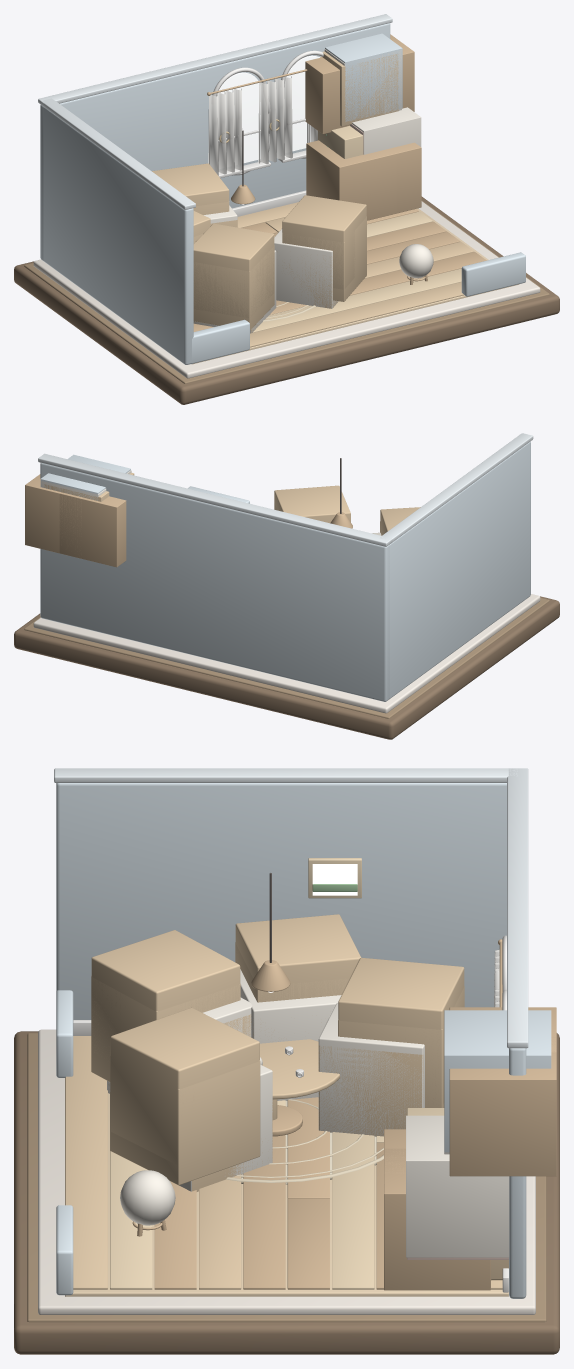
The model's file is dining-nook.glb.
The picture shows the model from 3 angles, top to bottom: view 1: azimuth 30°, elevation 25°; view 2: azimuth 150°, elevation 25°; view 3: azimuth 270°, elevation 25°; orthographic projection. The views are drawn at different scales.
Parts seen in each view (by area): view 1: WallWest, WallNorth, Plinth, Skirt, Chair2RailTop, SideDoor0, ShelfBookB, Chair2RailMid, Chair3RailTop, CapNorth, Chair3Pad, PlinthHi (+30 smaller); view 2: WallNorth, WallWest, Plinth, Skirt, ShelfBracket0, CapNorth, PlinthHi, ShelfBracket1, CapWest, Chair3RailTop, ShelfBookB, Chair2RailTop (+1 smaller); view 3: WallWest, Plinth, Skirt, Chair3RailTop, ShelfBracket1, SideBookB, Chair3RailMid, Plank0_0, PlinthHi, Chair2RailTop, Chair0Pad, Chair1RailTop (+30 smaller).
Part boxes in pixels (x1,y1,x2,y2): WallWest: (43,107,193,364); WallNorth: (40,23,390,260); Plinth: (14,196,559,404); Skirt: (33,201,540,378); Chair2RailTop: (193,223,274,317); SideDoor0: (306,140,396,220); ShelfBookB: (325,33,402,121); Chair2RailMid: (193,245,274,329); Chair3RailTop: (282,195,366,289); CapNorth: (38,14,392,106); Chair3Pad: (274,228,338,308); PlinthHi: (24,200,549,383); WallNorth: (40,463,389,701); WallWest: (389,441,530,698); Plinth: (14,596,559,739); Skirt: (33,594,540,713); ShelfBracket0: (59,492,126,567); CapNorth: (38,453,392,546); PlinthHi: (24,598,549,718); ShelfBracket1: (25,474,82,558); CapWest: (380,433,533,541); Chair3RailTop: (274,485,350,523); ShelfBookB: (40,454,130,499); Chair2RailTop: (380,507,420,535); WallWest: (56,783,506,1019); Plinth: (14,1031,559,1354); Skirt: (38,1029,535,1314); Chair3RailTop: (110,1007,259,1164); ShelfBracket1: (449,1037,556,1176); SideBookB: (406,1115,509,1257); Chair3RailMid: (110,1055,260,1185); Plank0_0: (65,1036,107,1289); PlinthHi: (27,1033,546,1322); Chair2RailTop: (91,930,240,1058); Chair0Pad: (318,1003,424,1136); Chair1RailTop: (235,914,361,1002).
Bounding box in the file's own units: 6.6 × 3.12 × 5.1.
